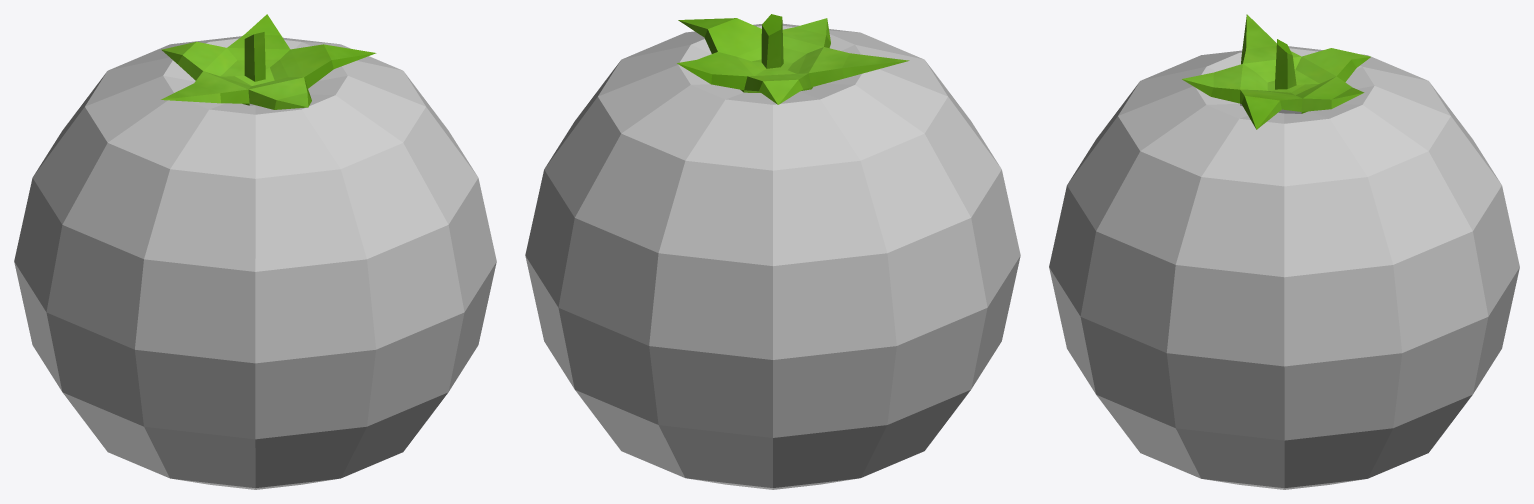
Rendered from cherry_tomato 1.fbx.
The picture shows the model from 3 angles, left to right: view 1: azimuth 30°, elevation 25°; view 2: azimuth 150°, elevation 25°; view 3: azimuth 270°, elevation 25°; orthographic projection. The views are drawn at different scales.
Visible parts, largest first — view 1: cherry_tomato_Sphere; view 2: cherry_tomato_Sphere; view 3: cherry_tomato_Sphere.
Part boxes in pixels (x1,y1,x2,y2): cherry_tomato_Sphere: (14, 14, 496, 489); cherry_tomato_Sphere: (525, 14, 1020, 489); cherry_tomato_Sphere: (1049, 14, 1519, 489).
Size of the model in its own units: 66.18 by 65.19 by 66.18.
